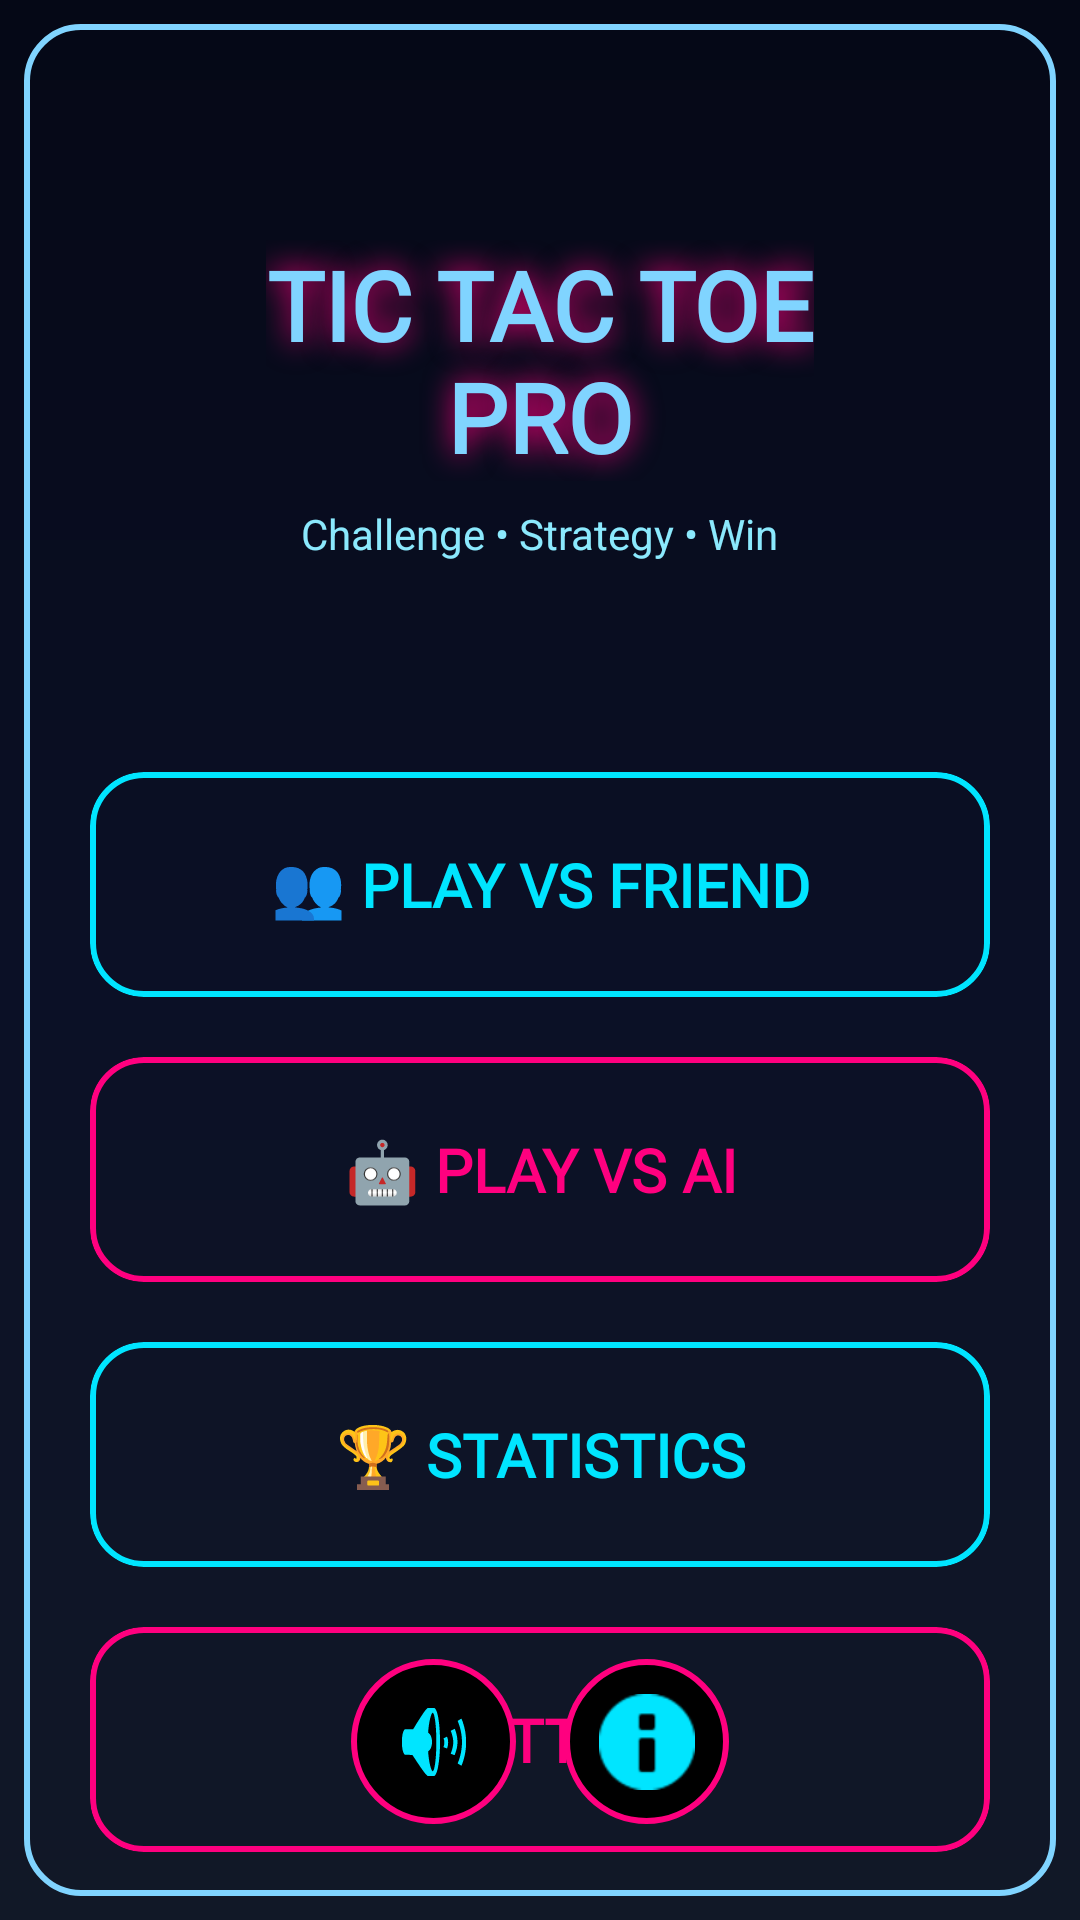

Icon bounding boxes for this 1080 × 1920 phone screenshot, format (x1, y1, x2, y2):
info: (564, 1659, 729, 1824)
lock silent mode off: (351, 1659, 516, 1824)
